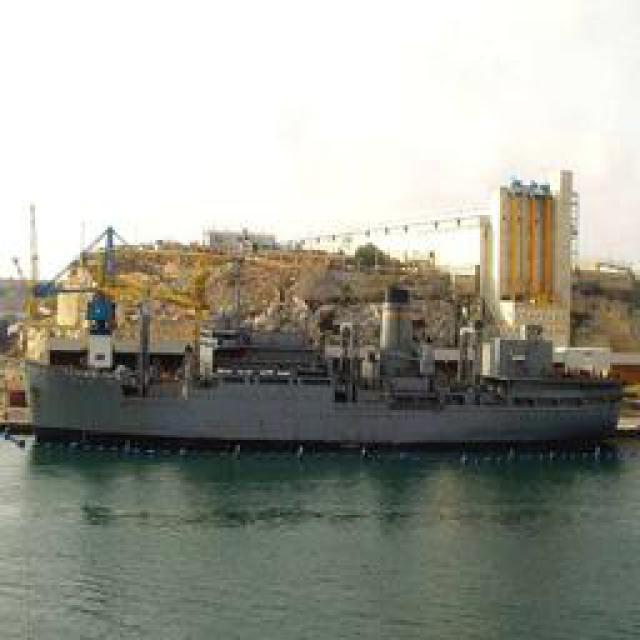Ship: (8, 301, 633, 451)
